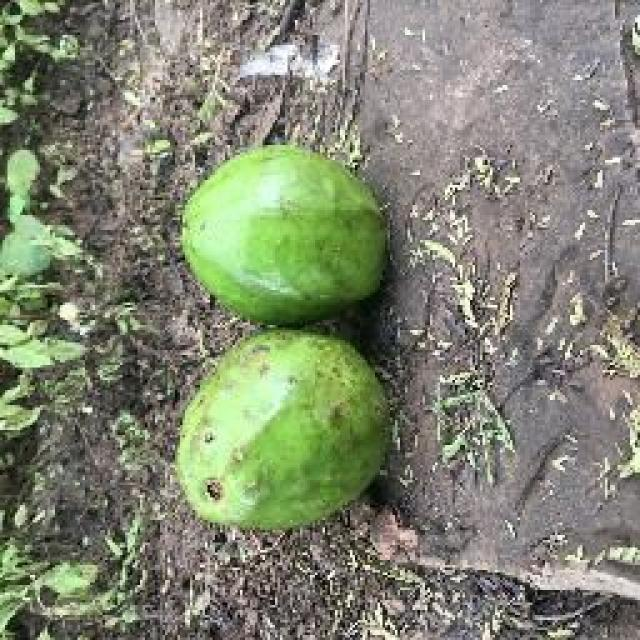Good_Guava: (178, 330, 390, 530), (180, 145, 388, 330)
